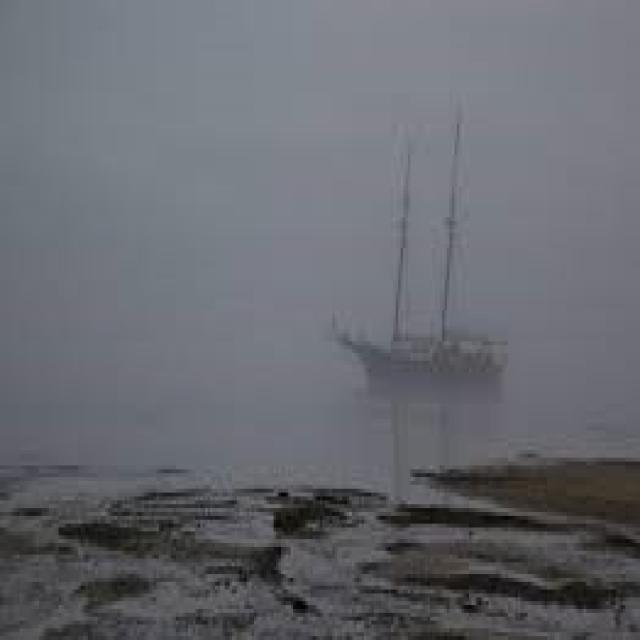fishing boat: (338, 107, 534, 385)
